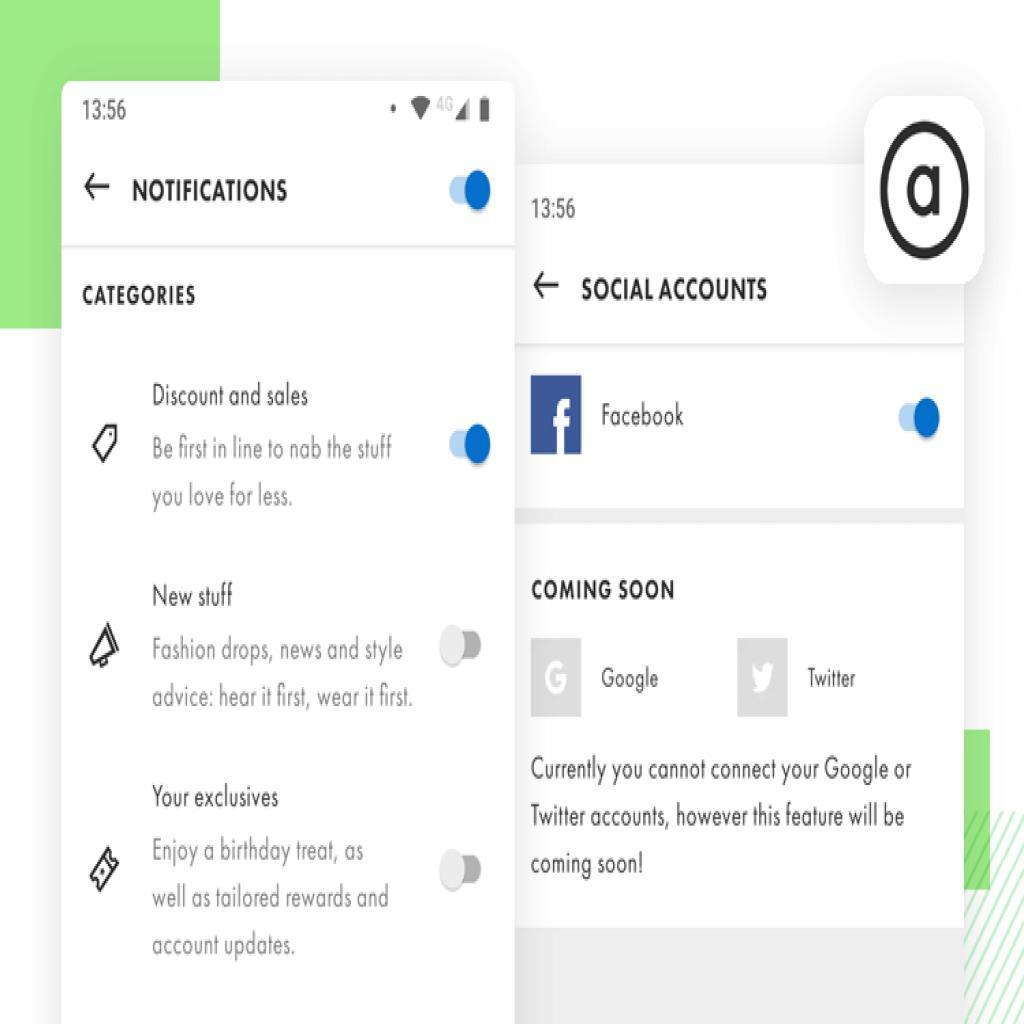icon: (85, 842, 128, 897), (82, 621, 123, 675), (85, 417, 123, 466), (528, 267, 566, 301), (80, 174, 113, 203)
switch: (440, 624, 486, 670), (899, 396, 942, 444), (447, 426, 494, 468), (440, 850, 483, 893), (449, 170, 492, 212)
